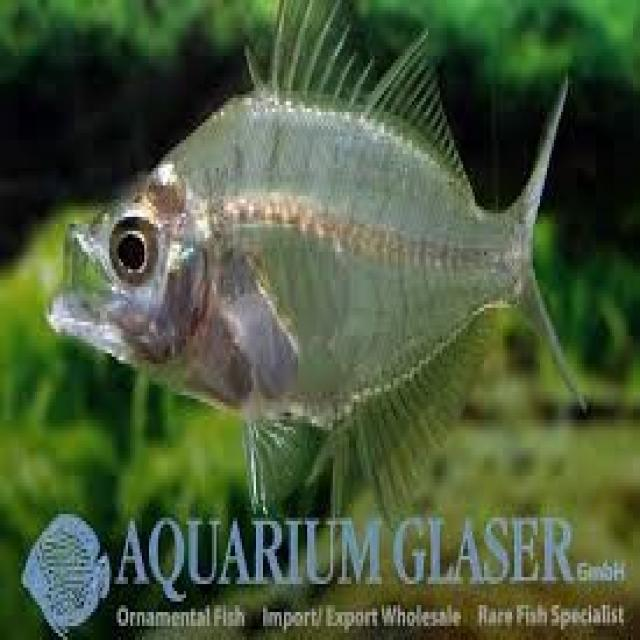Glass-Perchlet: (41, 7, 606, 501)
